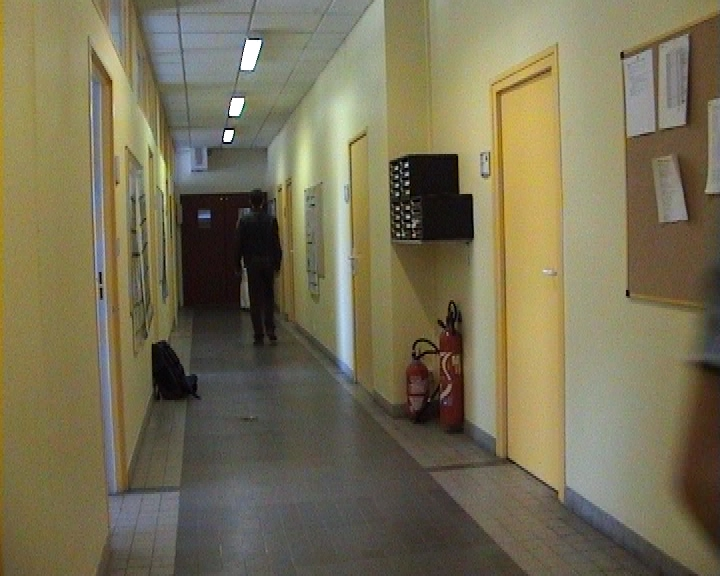leave bag unattended: (138, 322, 232, 441)
